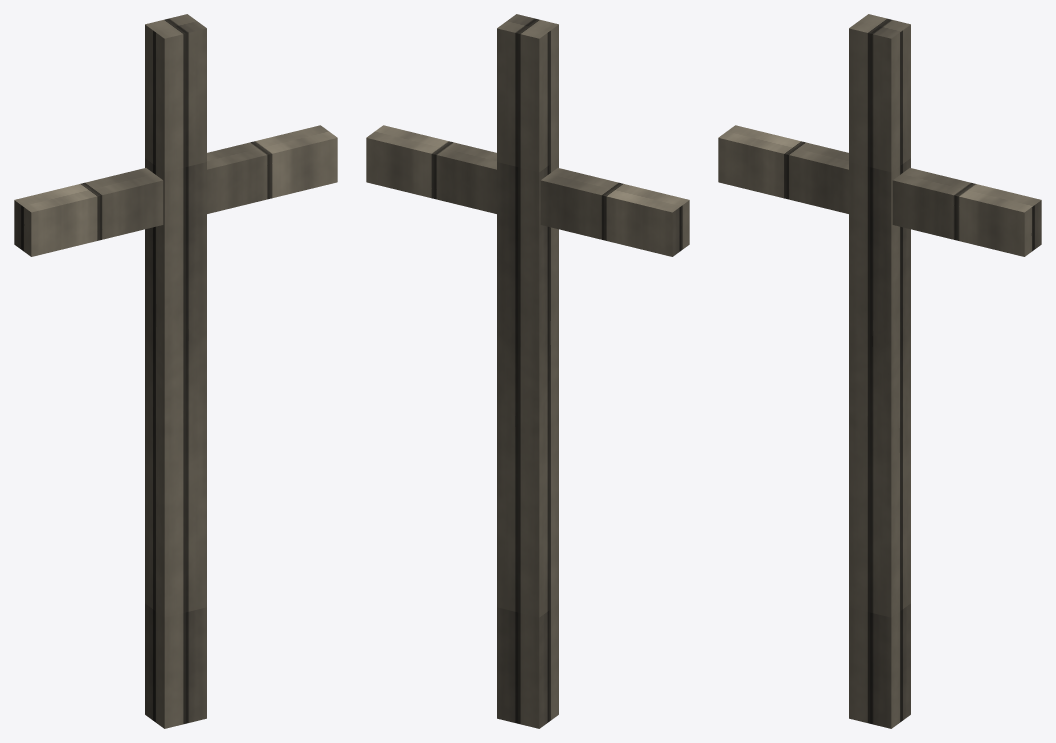
File: Cross_Wood_1_LOD2.gltf
The picture shows the model from 3 angles, left to right: view 1: azimuth 30°, elevation 25°; view 2: azimuth 150°, elevation 25°; view 3: azimuth 330°, elevation 25°; orthographic projection.
Parts seen in each view (by area): view 1: Cross_Wood_1_LOD2; view 2: Cross_Wood_1_LOD2; view 3: Cross_Wood_1_LOD2.
Boxes of the visible parts, x1,y1,x2,y2 form: Cross_Wood_1_LOD2: (14,14,337,728); Cross_Wood_1_LOD2: (366,14,689,728); Cross_Wood_1_LOD2: (718,14,1041,728).
Bounding box in the file's own units: 0.72 × 1.55 × 0.08.
Materials: 1 (1 with a texture image).
